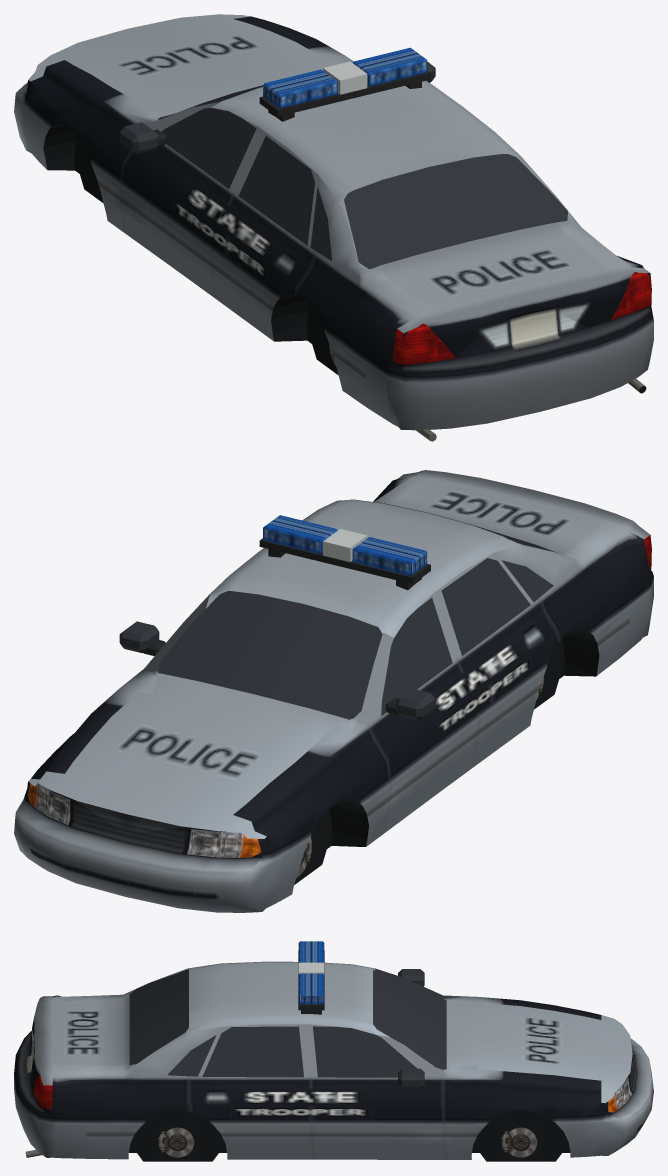
File: fullsize_trooper.obj
The picture shows the model from 3 angles, top to bottom: view 1: azimuth 30°, elevation 25°; view 2: azimuth 150°, elevation 25°; view 3: azimuth 270°, elevation 25°; orthographic projection. The views are drawn at different scales.
Visible parts, largest first — view 1: fullsize_trooper; view 2: fullsize_trooper; view 3: fullsize_trooper.
Part boxes in pixels (x1=…): fullsize_trooper: x1=14, y1=14, x2=653, y2=441; fullsize_trooper: x1=14, y1=470, x2=653, y2=912; fullsize_trooper: x1=14, y1=941, x2=653, y2=1161.
Bounding box in the file's own units: 2.18 × 1.48 × 5.38.
